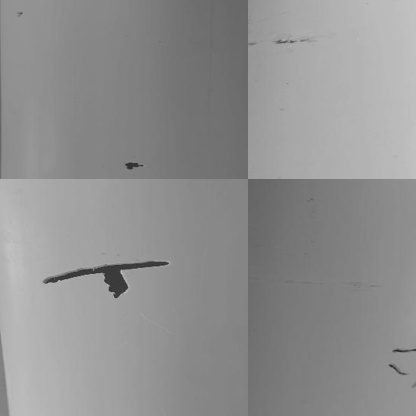fengxi: (43, 257, 177, 274), (388, 361, 409, 379), (388, 345, 411, 354)
kongdong: (100, 270, 135, 297), (123, 157, 143, 174)
